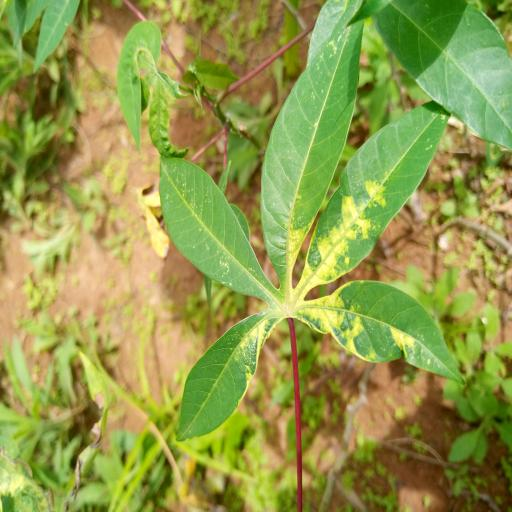Cassava_Mosaic: (156, 20, 468, 440)
